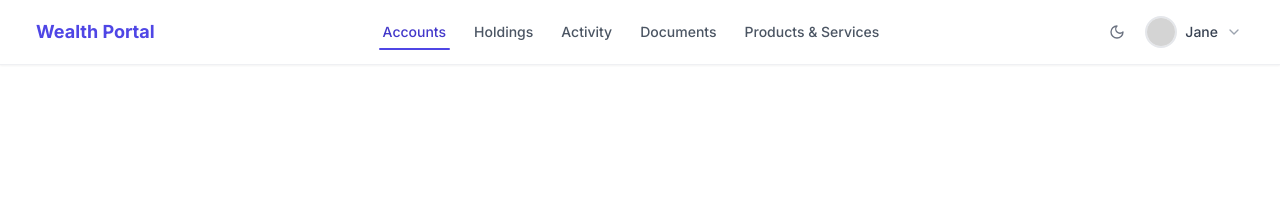
Test: NavigationBar › Profile Avatar and Dropdown › closes the profile dropdown when Escape key is pressed
The width and height of the screenshot is (1280, 215).
Click the button with aria-label "Open profile menu": (1194, 32) [1139,10,1248,54]
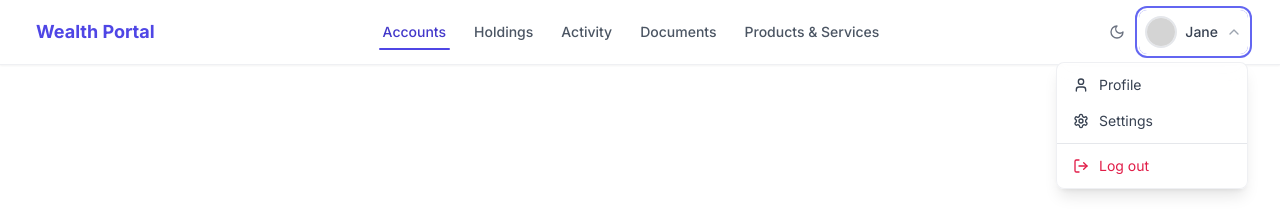
Now the menu is shown, box [1056,62,1248,189]
Press Escape
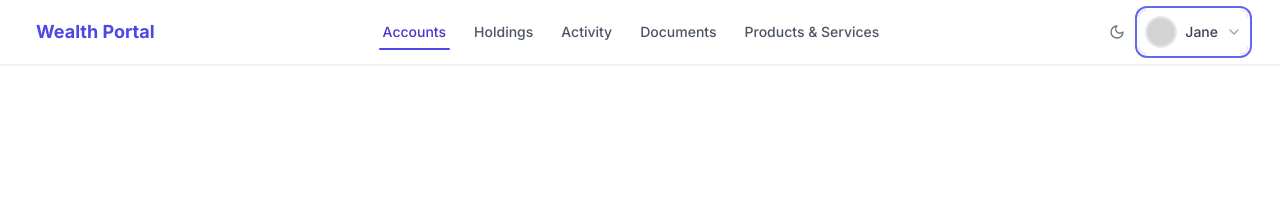
Now the menu is gone
